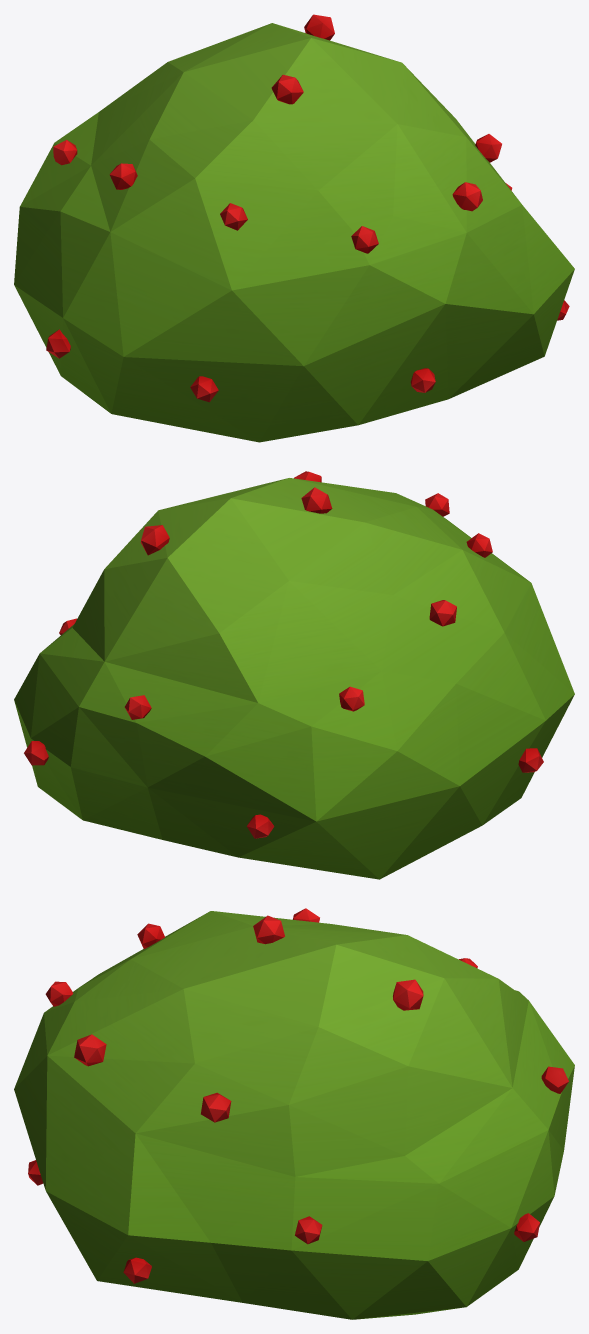
Rendered from Bush_04.fbx.
The picture shows the model from 3 angles, top to bottom: view 1: azimuth 30°, elevation 25°; view 2: azimuth 150°, elevation 25°; view 3: azimuth 270°, elevation 25°; orthographic projection. The views are drawn at different scales.
Visible parts, largest first — view 1: Bush_04; view 2: Bush_04; view 3: Bush_04.
Boxes of the visible parts, x1,y1,x2,y2 form: Bush_04: (14,14,574,442); Bush_04: (14,471,574,879); Bush_04: (14,908,574,1319).
Size of the model in its own units: 165 by 103 by 162.
